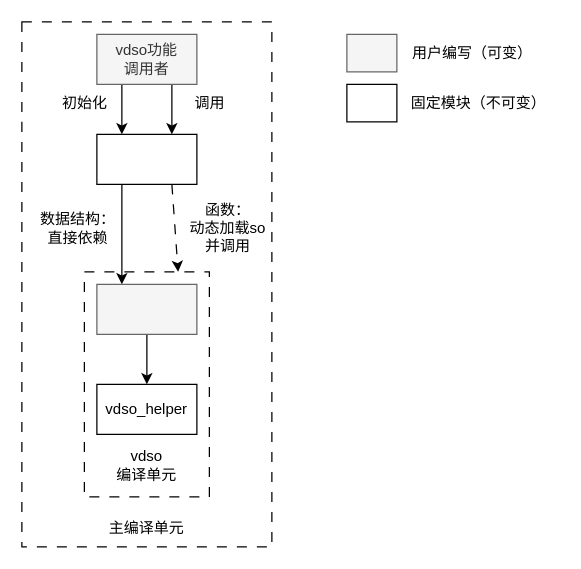
This 581x569 diagram has some shape labels left out. The shapes that lost their labels are listed below. From the top down, each one's centre as x and y in pixels, then its label:
At pixel 146 158: "vdso_utils".
At pixel 146 308: "用户编写的vdso库".
